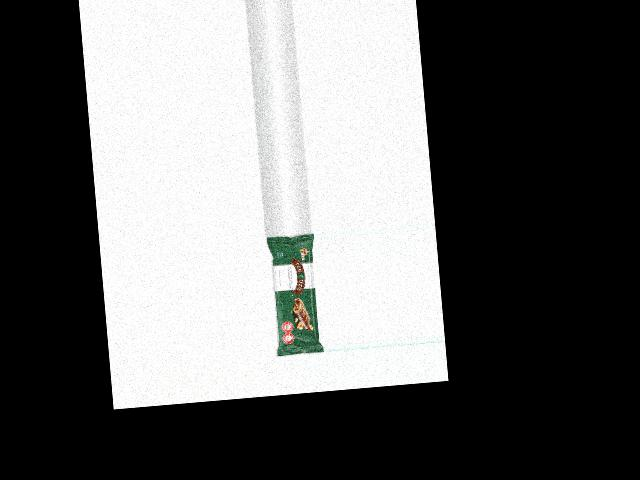chocolate: (264, 231, 323, 357)
